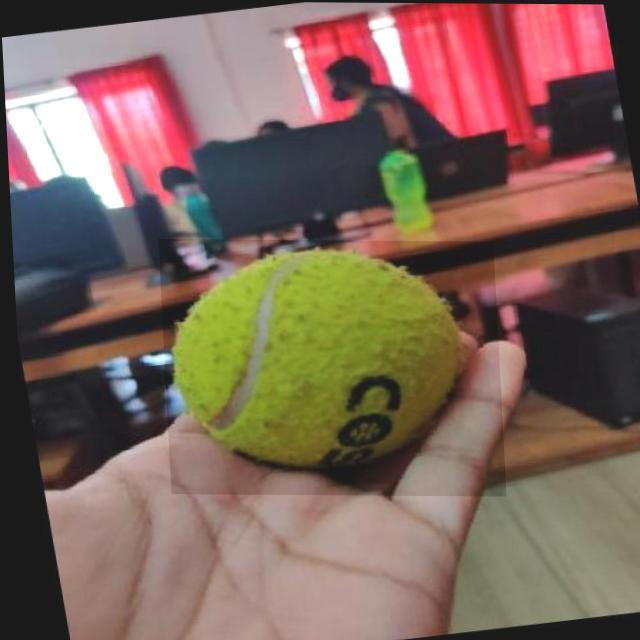-: (156, 239, 501, 496)
